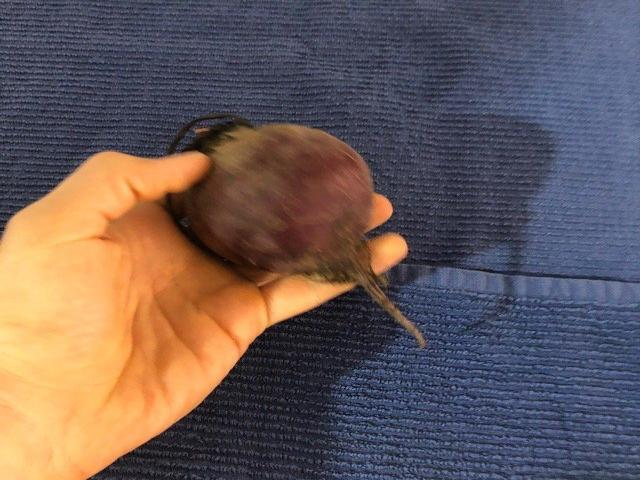beet: (167, 113, 427, 349)
